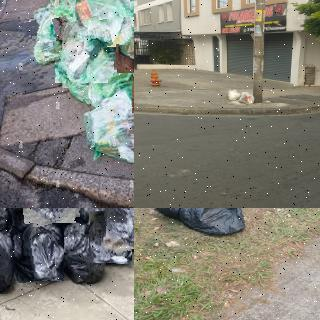Garbage: (12, 208, 66, 282), (52, 18, 110, 86), (81, 89, 134, 163), (145, 208, 256, 239), (22, 6, 76, 66), (55, 221, 104, 285), (74, 0, 132, 49), (88, 211, 133, 264), (85, 59, 134, 107), (101, 208, 134, 251), (115, 16, 134, 74), (0, 221, 14, 293), (24, 208, 77, 225), (238, 92, 254, 105), (227, 89, 240, 100)
